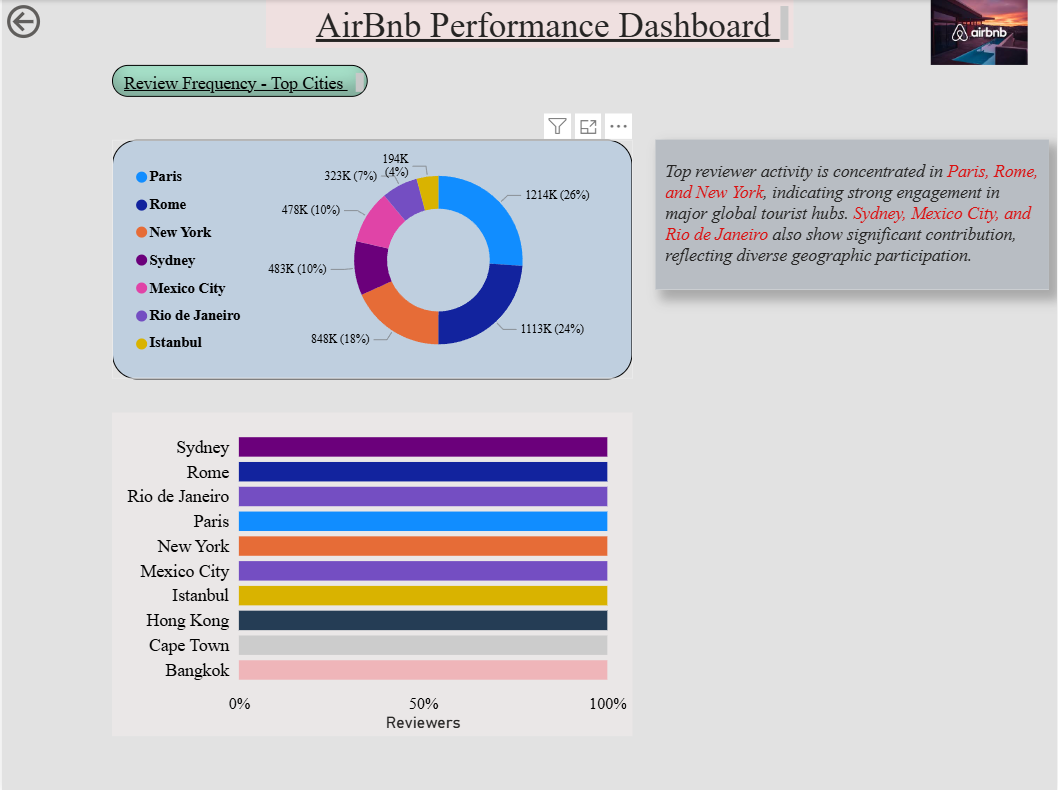

This screenshot's page, from the dashboard's own definition file:
{"tool":"powerbi","page":{"name":"Reviews","canvas":[960,720],"ordinal":2},"visuals":[{"type":"textbox","box":[240,0,480,44],"z":0},{"type":"image","box":[818.9,0,141.1,58.9],"z":1000},{"type":"textbox","box":[100.2,58.7,232.8,29.4],"z":2000},{"type":"actionButton","box":[0,0,100,40],"z":3000},{"type":"donutChart","fields":{"Y":["Listings.Reviewers"],"Category":["Listings.city"]},"box":[100,126.7,473.3,217.8],"z":4000},{"type":"hundredPercentStackedBarChart","fields":{"Category":["Listings.city"],"Y":["Listings.Reviewers"]},"box":[100,375.6,473.3,294.4],"z":5000},{"type":"textbox","box":[594.4,126.7,357.8,136.7],"z":6000}]}

Visuals, with their boxes in screenshot pixels (x1, y1, x2, y2), scaled from the page's 960x720 canvas onto the 1058x790 screenshot:
textbox: <region>264, 0, 794, 48</region>
image: <region>902, 0, 1057, 65</region>
textbox: <region>110, 64, 367, 97</region>
actionButton: <region>0, 0, 110, 44</region>
donutChart - Listings.Reviewers x Listings.city: <region>110, 139, 632, 378</region>
hundredPercentStackedBarChart - Listings.city x Listings.Reviewers: <region>110, 412, 632, 735</region>
textbox: <region>655, 139, 1049, 289</region>
